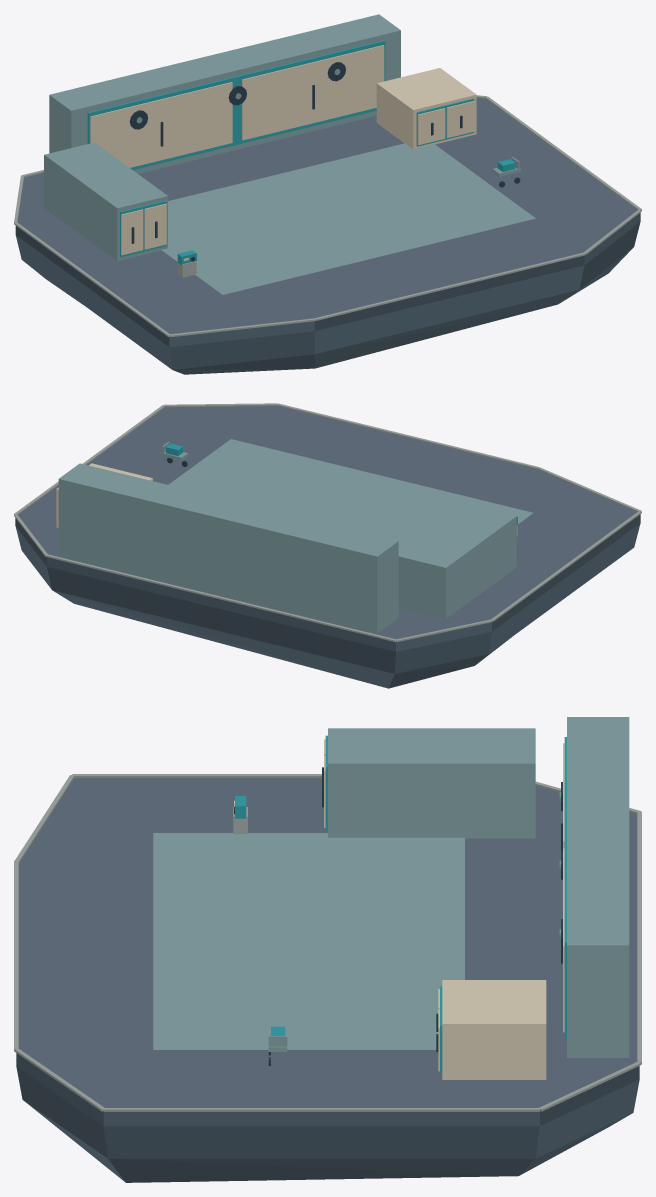
Rendered from ft02-cold-warehouse.glb.
The picture shows the model from 3 angles, top to bottom: view 1: azimuth 30°, elevation 25°; view 2: azimuth 150°, elevation 25°; view 3: azimuth 270°, elevation 25°; orthographic projection. The views are drawn at different scales.
Parts seen in each view (by area): view 1: GEO_ground, GEO_forecourt, LAND_0_coldwall, GEO_foundation, LAND_1_freezer, LAND_2_coldcargo, GEO_rim; view 2: LAND_0_coldwall, GEO_ground, GEO_foundation, GEO_forecourt, LAND_1_freezer, GEO_rim, PROP_bench; view 3: GEO_ground, GEO_forecourt, GEO_foundation, LAND_1_freezer, LAND_0_coldwall, LAND_2_coldcargo, GEO_rim.
Part boxes in pixels (x1,y1,x2,y2): GEO_ground: [17, 98, 637, 334]; GEO_forecourt: [162, 143, 535, 294]; LAND_0_coldwall: [49, 14, 400, 173]; GEO_foundation: [15, 212, 640, 374]; LAND_1_freezer: [44, 142, 167, 261]; LAND_2_coldcargo: [376, 68, 476, 148]; GEO_rim: [14, 95, 641, 337]; LAND_0_coldwall: [58, 463, 398, 633]; GEO_ground: [18, 406, 637, 639]; GEO_foundation: [15, 514, 640, 688]; GEO_forecourt: [168, 439, 533, 554]; LAND_1_freezer: [398, 504, 516, 618]; GEO_rim: [14, 403, 641, 642]; PROP_bench: [161, 441, 187, 466]; GEO_ground: [18, 778, 637, 1107]; GEO_forecourt: [153, 833, 464, 1049]; GEO_foundation: [16, 1053, 639, 1182]; LAND_1_freezer: [322, 728, 535, 838]; LAND_0_coldwall: [559, 717, 629, 1057]; LAND_2_coldcargo: [436, 980, 546, 1079]; GEO_rim: [14, 774, 641, 1111].
Bounding box in the file's own units: 38.22 × 10.7 × 30.22.
